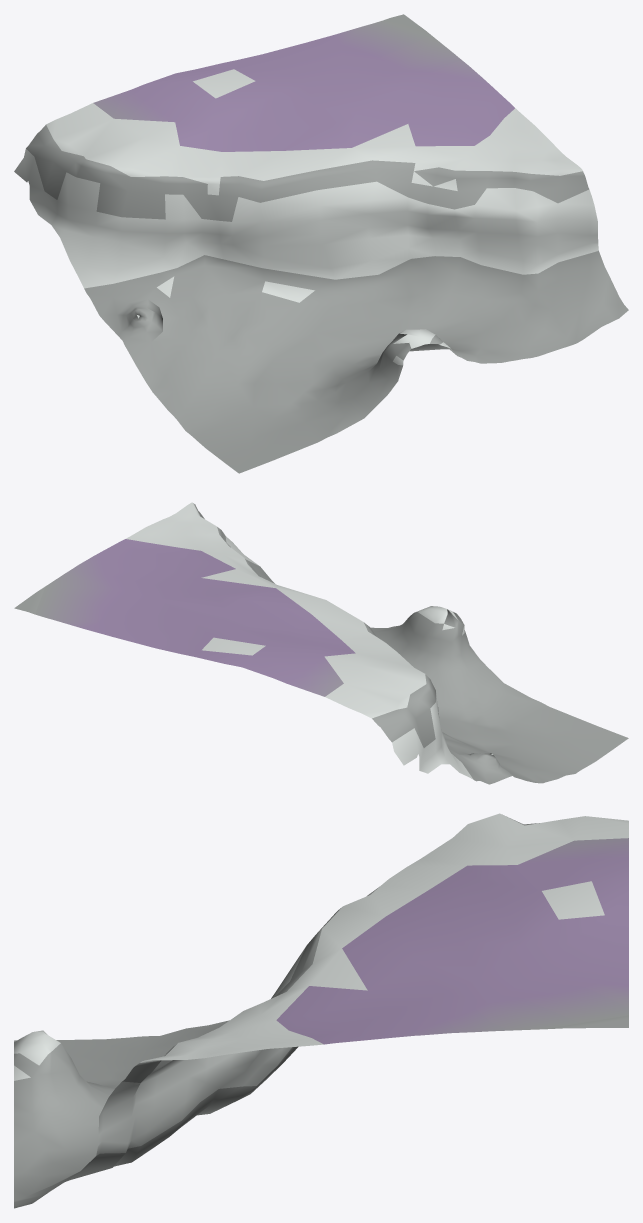
3 renders of one model, top to bottom at view 1: azimuth 30°, elevation 25°; view 2: azimuth 150°, elevation 25°; view 3: azimuth 270°, elevation 25°, orthographic. The views are drawn at different scales.
Parts seen in each view (by area): view 1: G:\FFXIV-MapTools\exports\m5f1\bg\ex4\02_mid_m5\fld\m5f1\bgp (×10); view 2: G:\FFXIV-MapTools\exports\m5f1\bg\ex4\02_mid_m5\fld\m5f1\bgp (×10); view 3: G:\FFXIV-MapTools\exports\m5f1\bg\ex4\02_mid_m5\fld\m5f1\bgp (×11).
Boxes of the visible parts, left/top/right/bottom form: G:\FFXIV-MapTools\exports\m5f1\bg\ex4\02_mid_m5\fld\m5f1\bgp (×10): left=14, top=20, right=628, bottom=473; G:\FFXIV-MapTools\exports\m5f1\bg\ex4\02_mid_m5\fld\m5f1\bgp (×10): left=36, top=502, right=628, bottom=784; G:\FFXIV-MapTools\exports\m5f1\bg\ex4\02_mid_m5\fld\m5f1\bgp (×11): left=14, top=813, right=628, bottom=1208.
Bounding box in the file's own units: 128 × 62.58 × 128.
